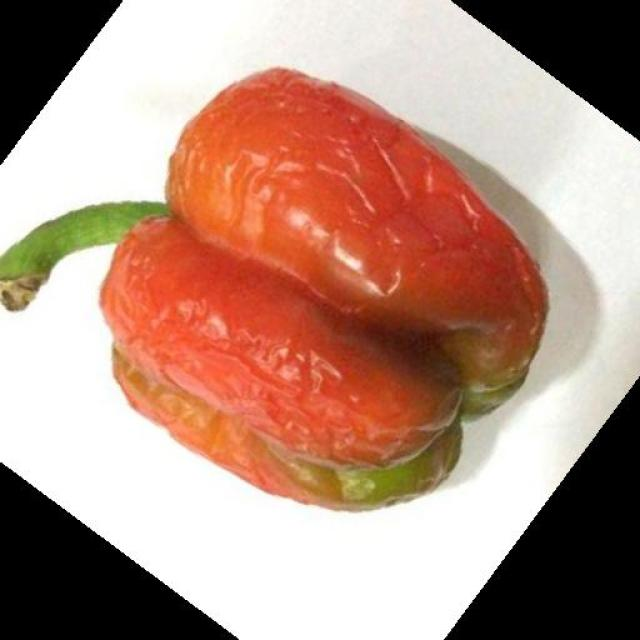Stale_Capsicum: (128, 68, 512, 504)
